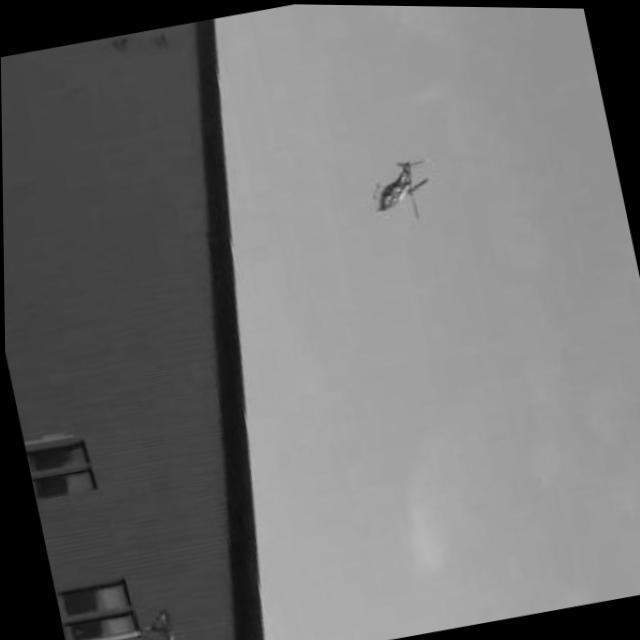helikopter: (352, 140, 451, 232)
